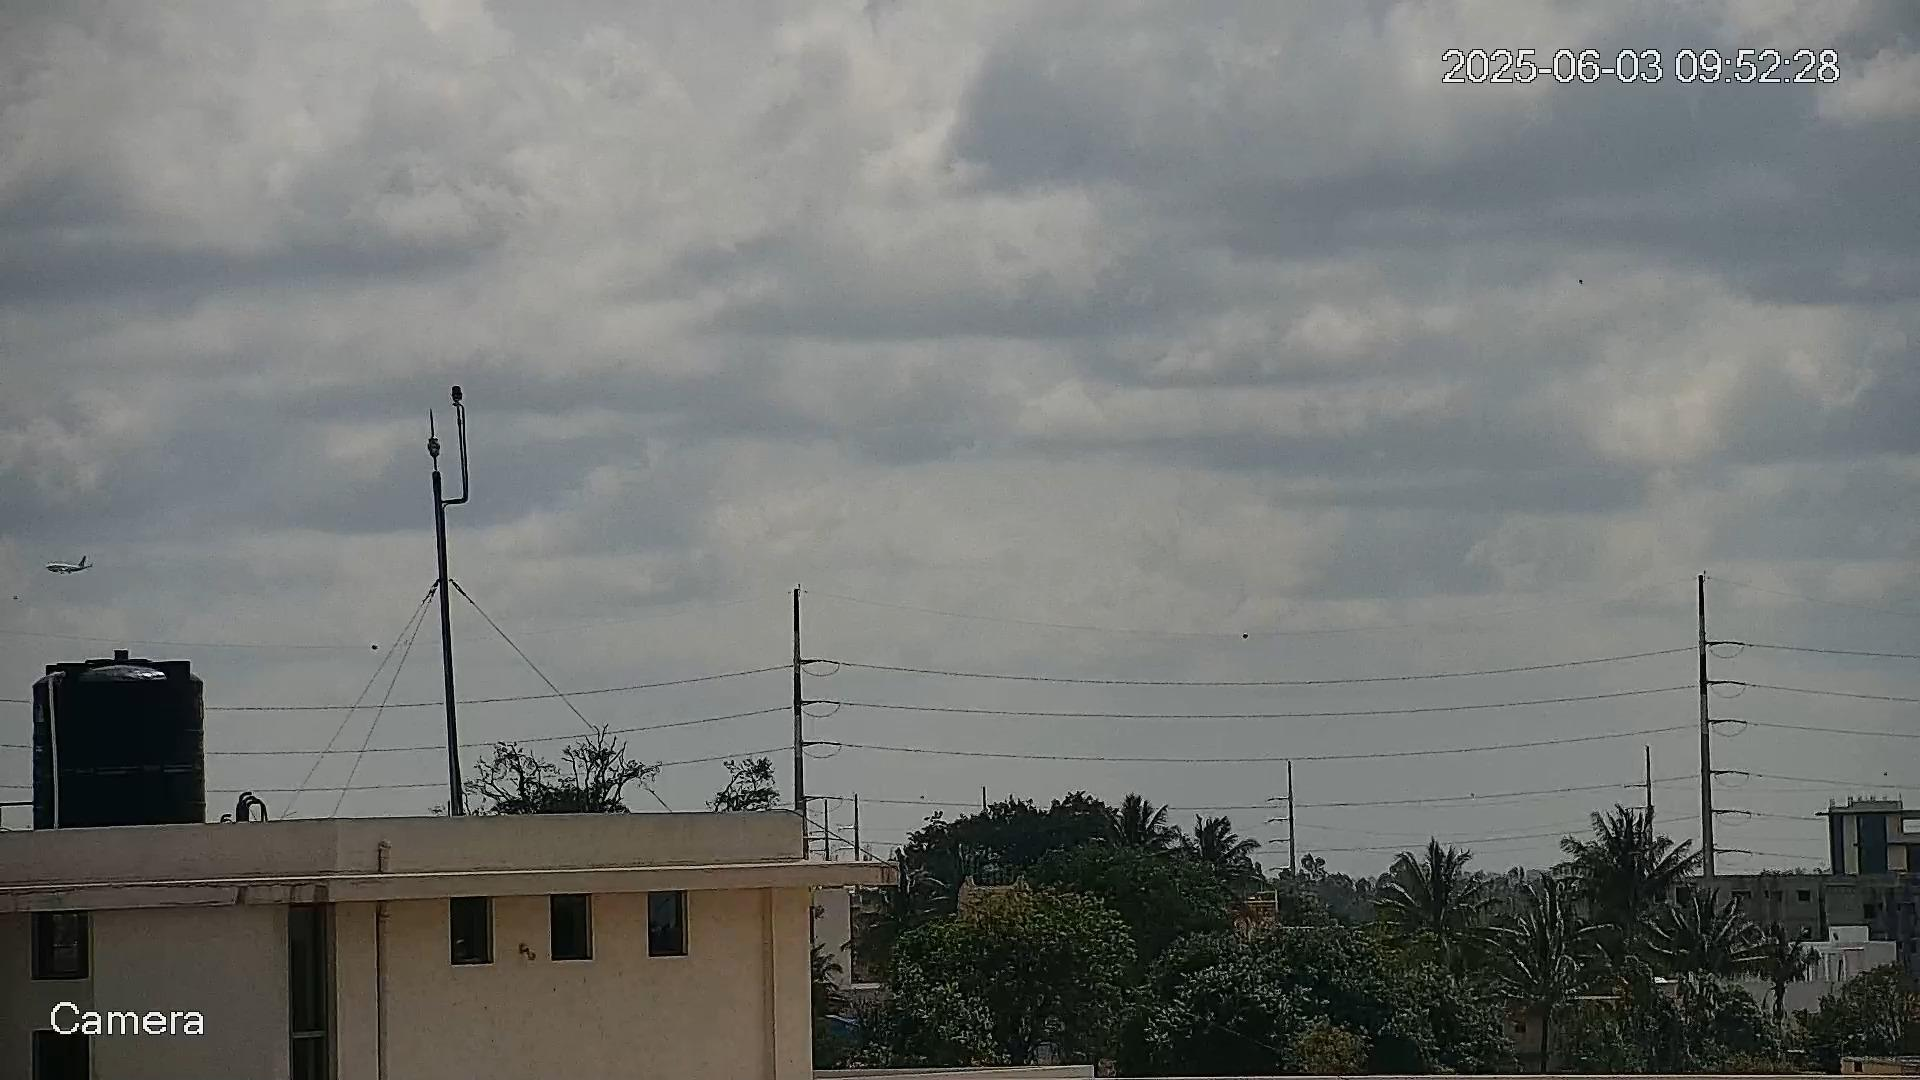Aircraft: (45, 555, 92, 575)
